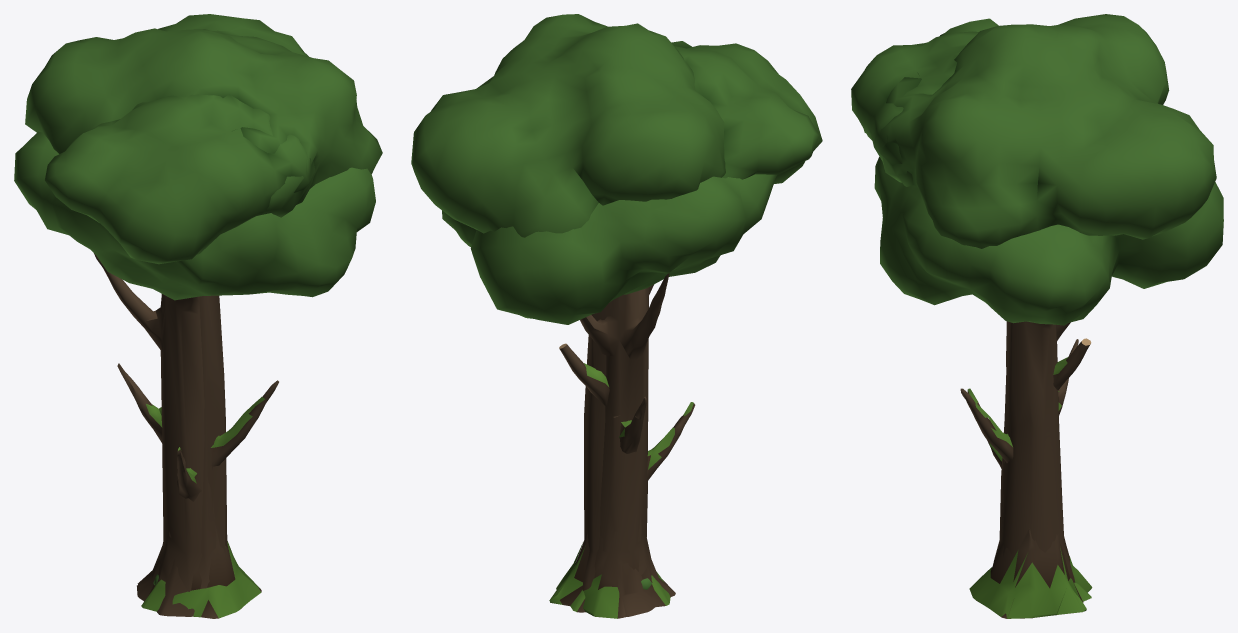
The model's file is glade_backdrop.glb.
3 renders of one model, left to right at view 1: azimuth 30°, elevation 25°; view 2: azimuth 150°, elevation 25°; view 3: azimuth 270°, elevation 25°, orthographic.
Parts seen in each view (by area): view 1: TreeB__leaf, TreeA__leaf, TreeA__bark, TreeB__bark, TreeC__bark, TreeC__moss; view 2: TreeB__leaf, TreeA__leaf, TreeA__bark, TreeB__bark, TreeC__bark, TreeC__moss; view 3: TreeB__leaf, TreeA__leaf, TreeB__bark, TreeC__moss, TreeC__bark.
Boxes of the visible parts, <box> form: TreeB__leaf: <box>25,14,382,264</box>; TreeA__leaf: <box>14,131,375,300</box>; TreeA__bark: <box>94,253,216,591</box>; TreeB__bark: <box>137,295,227,616</box>; TreeC__bark: <box>117,363,278,618</box>; TreeC__moss: <box>141,397,264,618</box>; TreeB__leaf: <box>411,14,822,237</box>; TreeA__leaf: <box>442,174,777,324</box>; TreeA__bark: <box>580,273,669,582</box>; TreeB__bark: <box>577,301,675,617</box>; TreeC__bark: <box>559,344,695,618</box>; TreeC__moss: <box>549,363,693,618</box>; TreeB__leaf: <box>851,14,1216,248</box>; TreeA__leaf: <box>874,157,1223,325</box>; TreeB__bark: <box>993,321,1086,618</box>; TreeC__moss: <box>967,357,1092,618</box>; TreeC__bark: <box>960,339,1090,618</box>.
Bounding box in the file's own units: 10.56 × 16.59 × 9.91.
